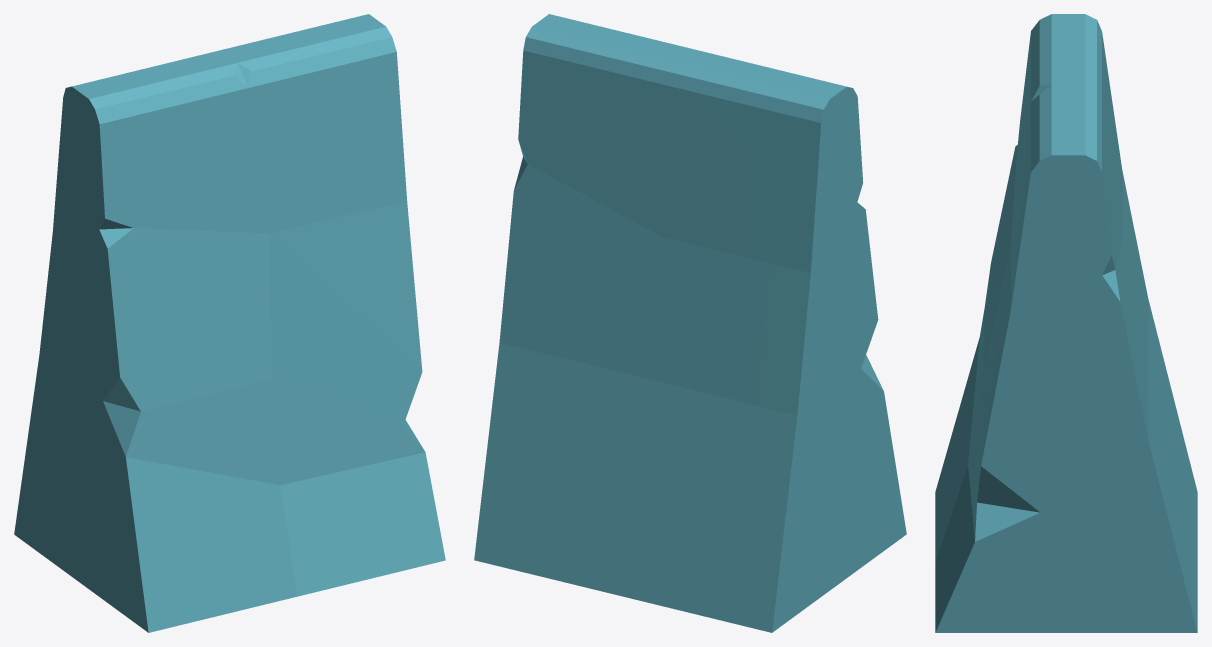
File: SM_Bld_Stone_Wall_Large_01.glb
The picture shows the model from 3 angles, left to right: view 1: azimuth 30°, elevation 25°; view 2: azimuth 150°, elevation 25°; view 3: azimuth 270°, elevation 25°; orthographic projection. The views are drawn at different scales.
Parts seen in each view (by area): view 1: SM_Bld_Stone_Wall_Large_01; view 2: SM_Bld_Stone_Wall_Large_01; view 3: SM_Bld_Stone_Wall_Large_01.
Part boxes in pixels (x1,y1,x2,y2): SM_Bld_Stone_Wall_Large_01: (14,14,445,632); SM_Bld_Stone_Wall_Large_01: (474,14,906,632); SM_Bld_Stone_Wall_Large_01: (935,14,1197,632).
Size of the model in its own units: 0.05 by 0.0788 by 0.0392.
